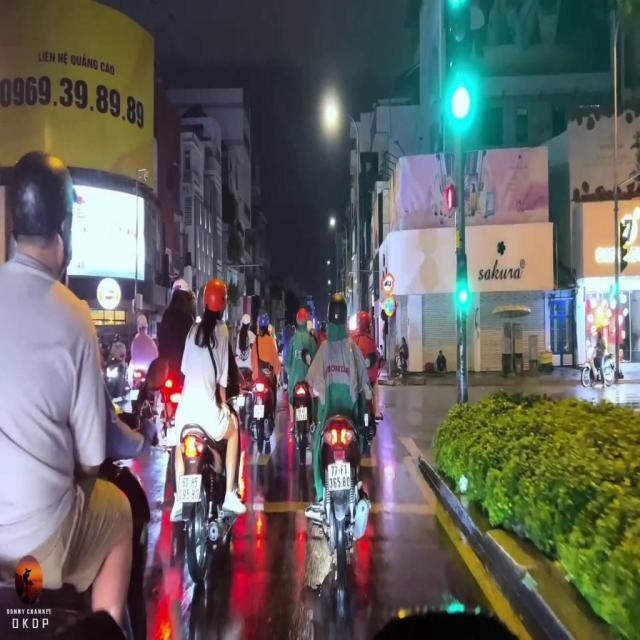cam_dung_xe_va_do_xe: (382, 294, 396, 317)
cam_o_to_tai_trong_luong_qua_2-5t: (382, 272, 396, 296)
